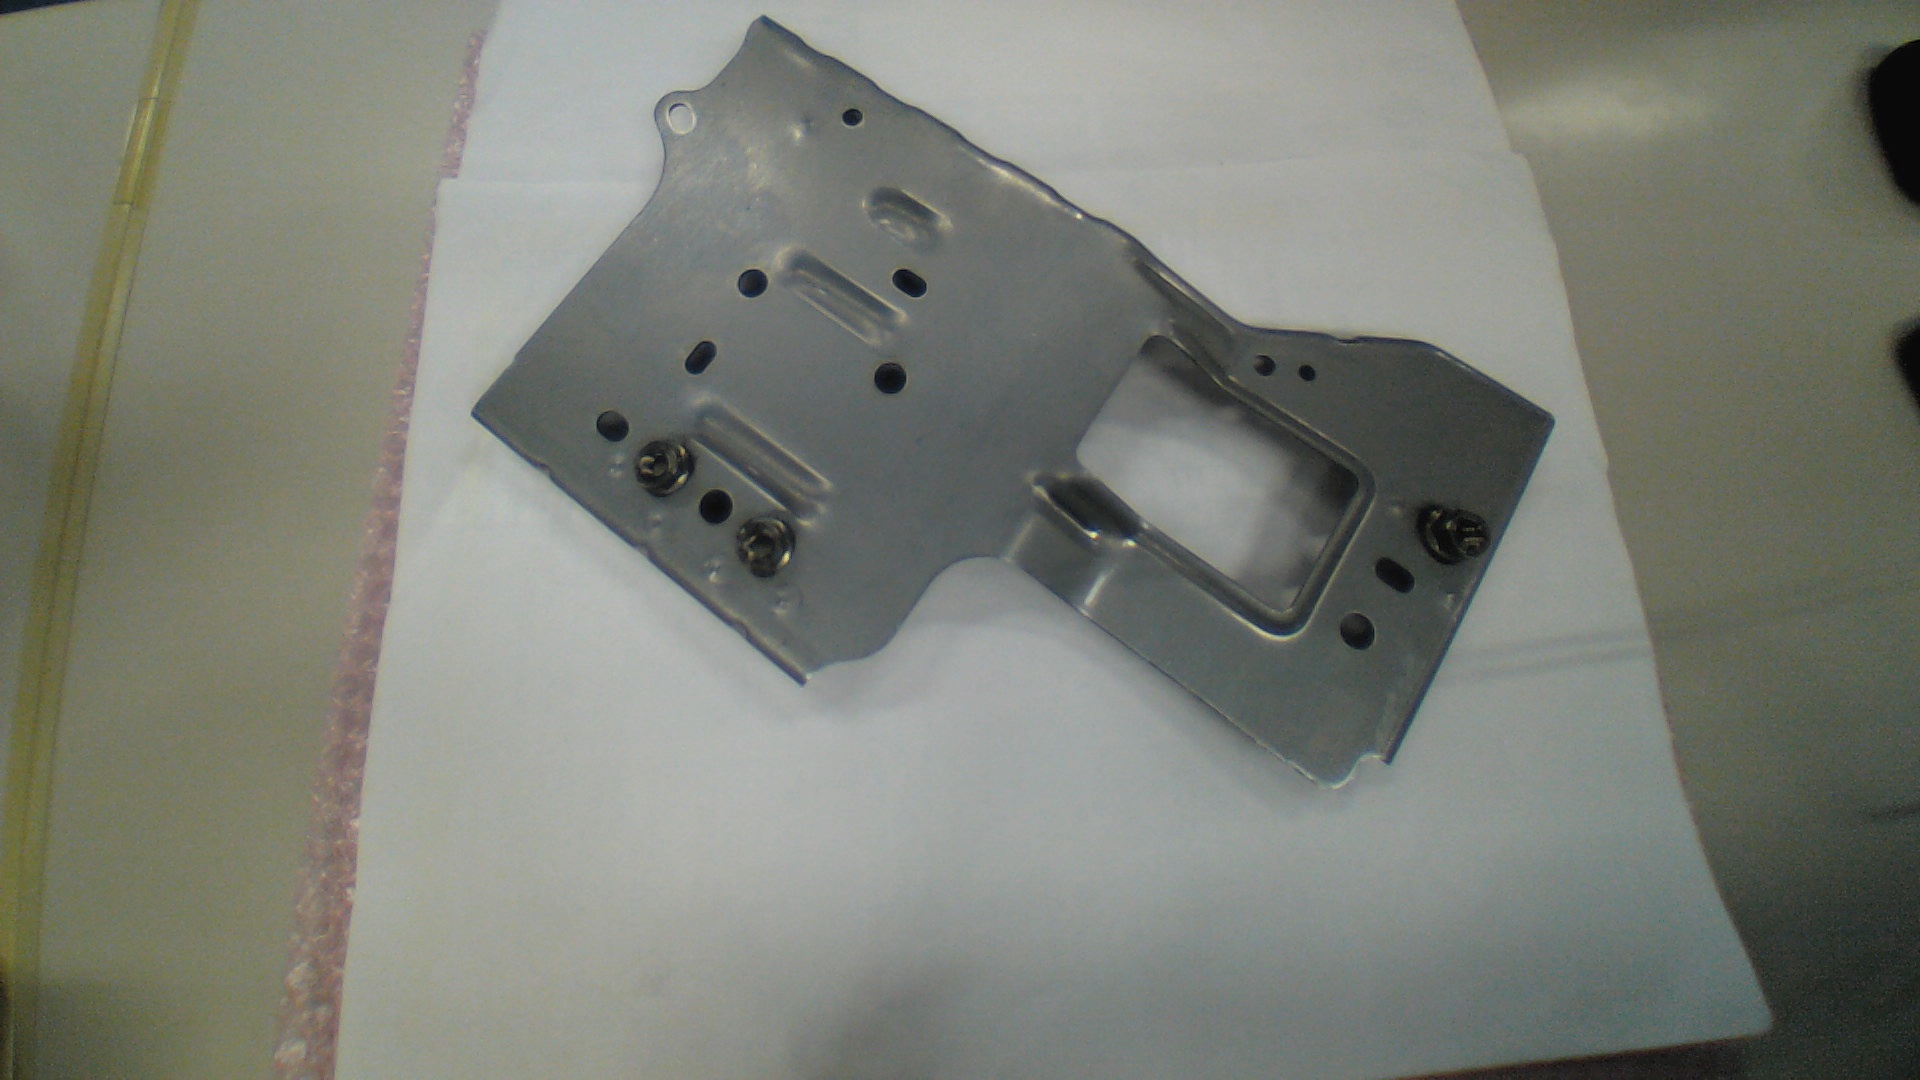dog: (1418, 505, 1489, 570), (636, 439, 691, 495), (736, 514, 778, 585)
